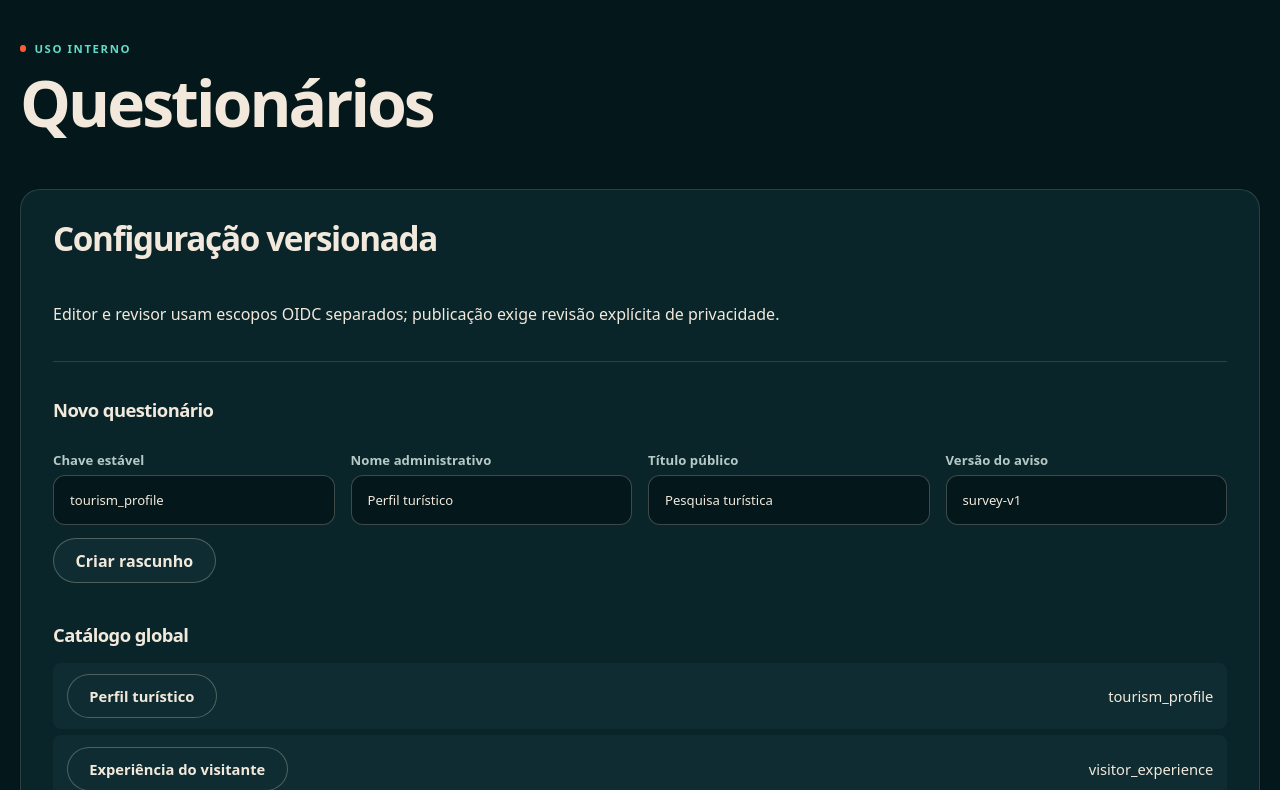
Test: administração de questionários › descarta o erro atrasado de uma versão após trocar de questionário
The image size is (1280, 790).
Step 1. Click the button "Perfil turístico" → (142, 696), box 67,674 -> 217,718
(page scrolled)
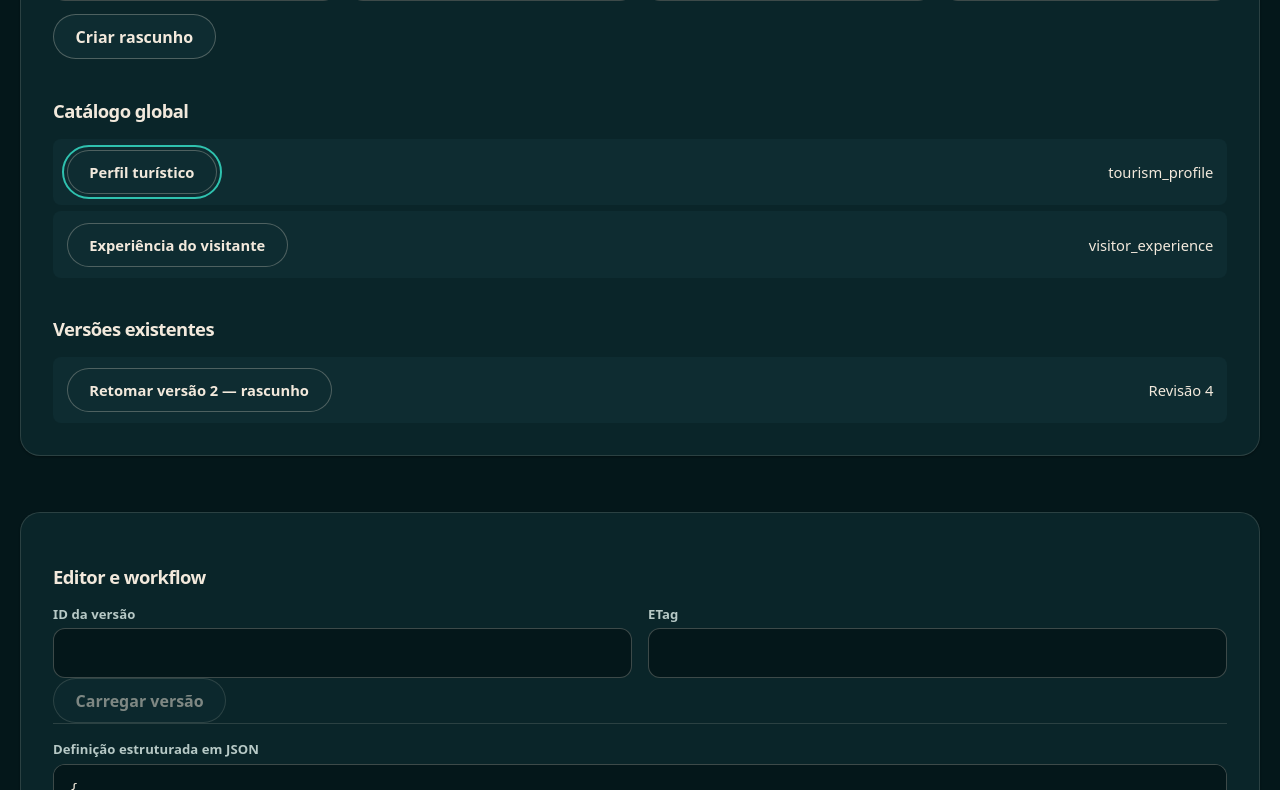
Step 2. Click the button "Retomar versão 2 — rascunho" → (199, 390), box 67,368 -> 332,412
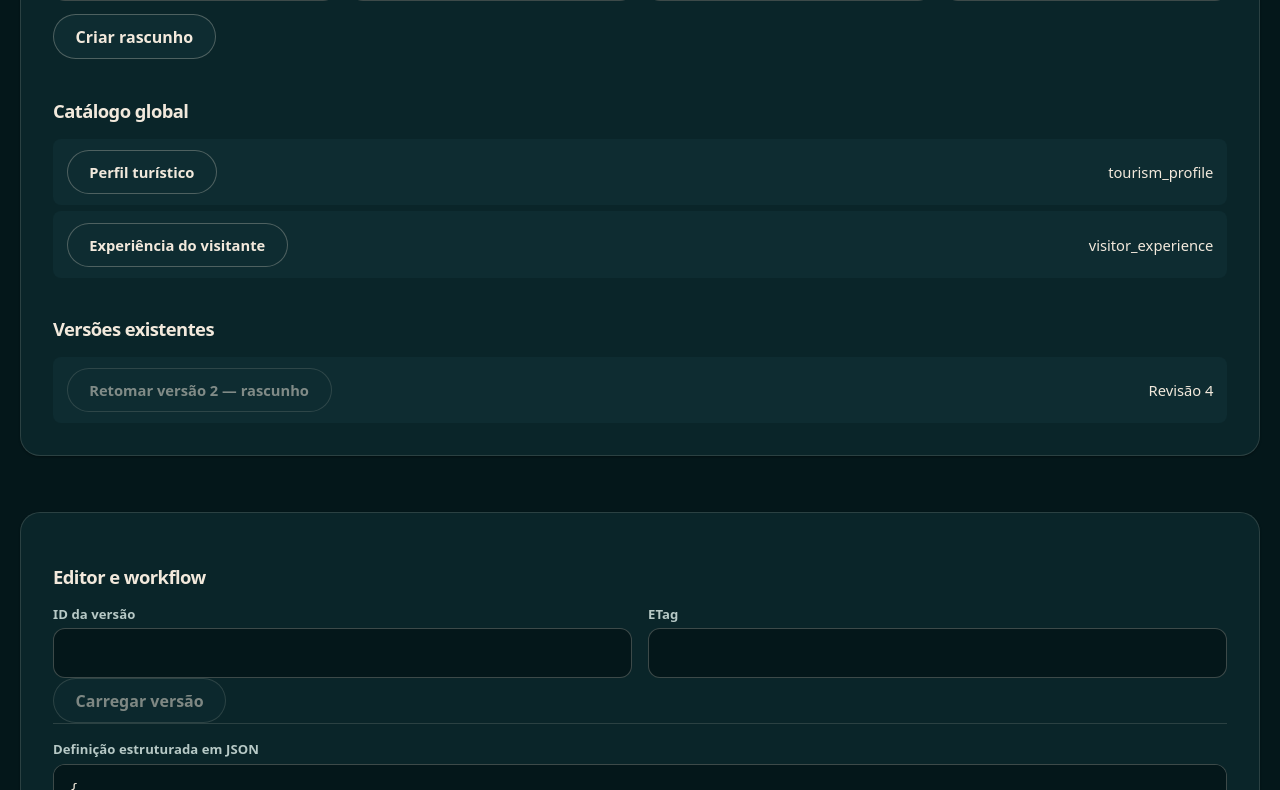
Step 3. Click the button "Experiência do visitante" → (177, 244), box 67,222 -> 288,266
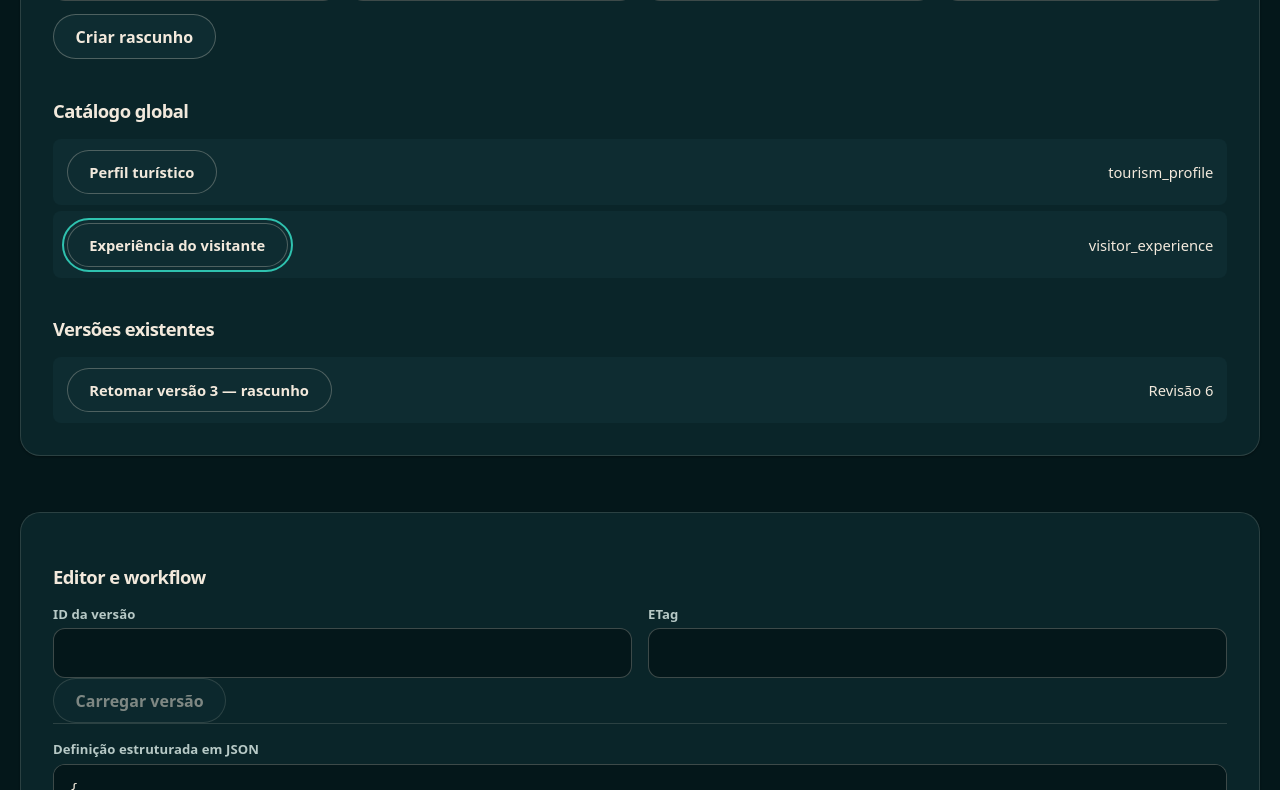
Step 4. Click the button "Retomar versão 3 — rascunho" → (199, 390), box 67,368 -> 332,412
(page scrolled)
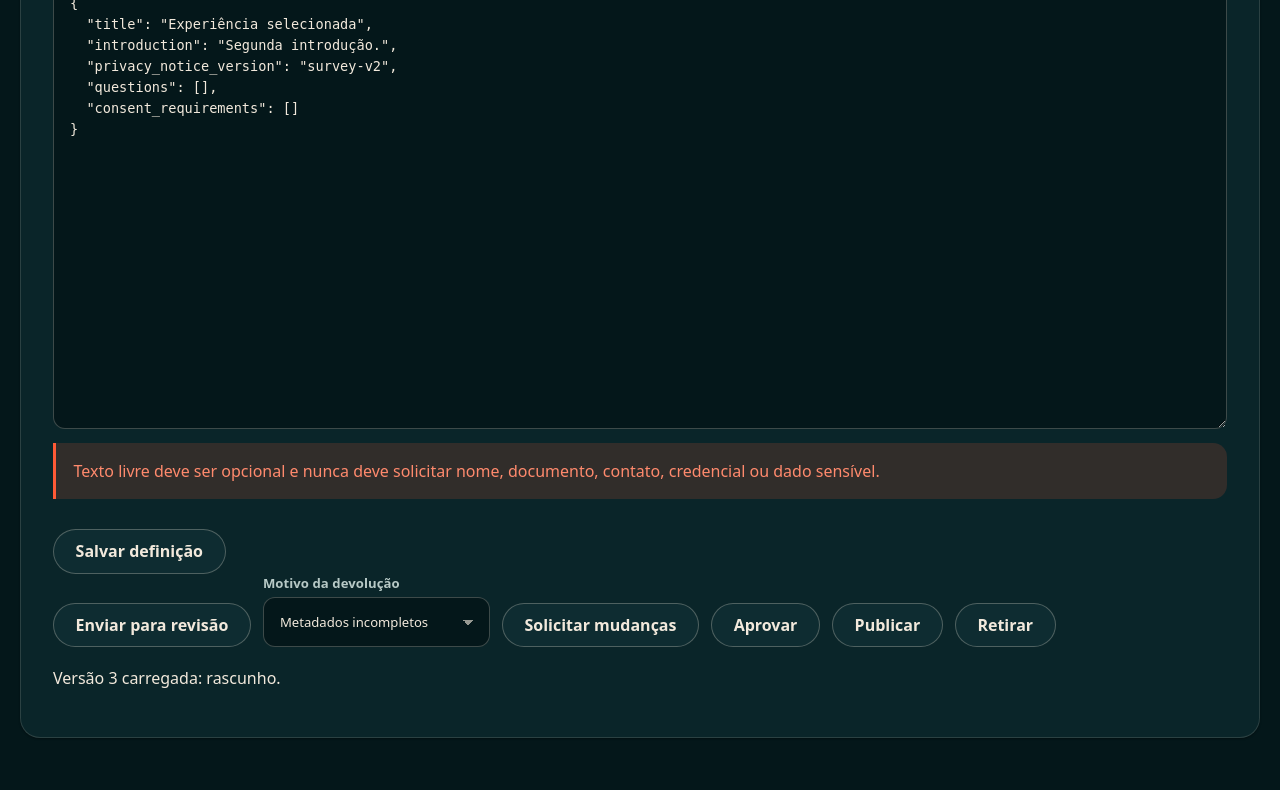
Expected: the text "Versão 3 carregada: rascunho." is shown, 53,667 -> 281,689
